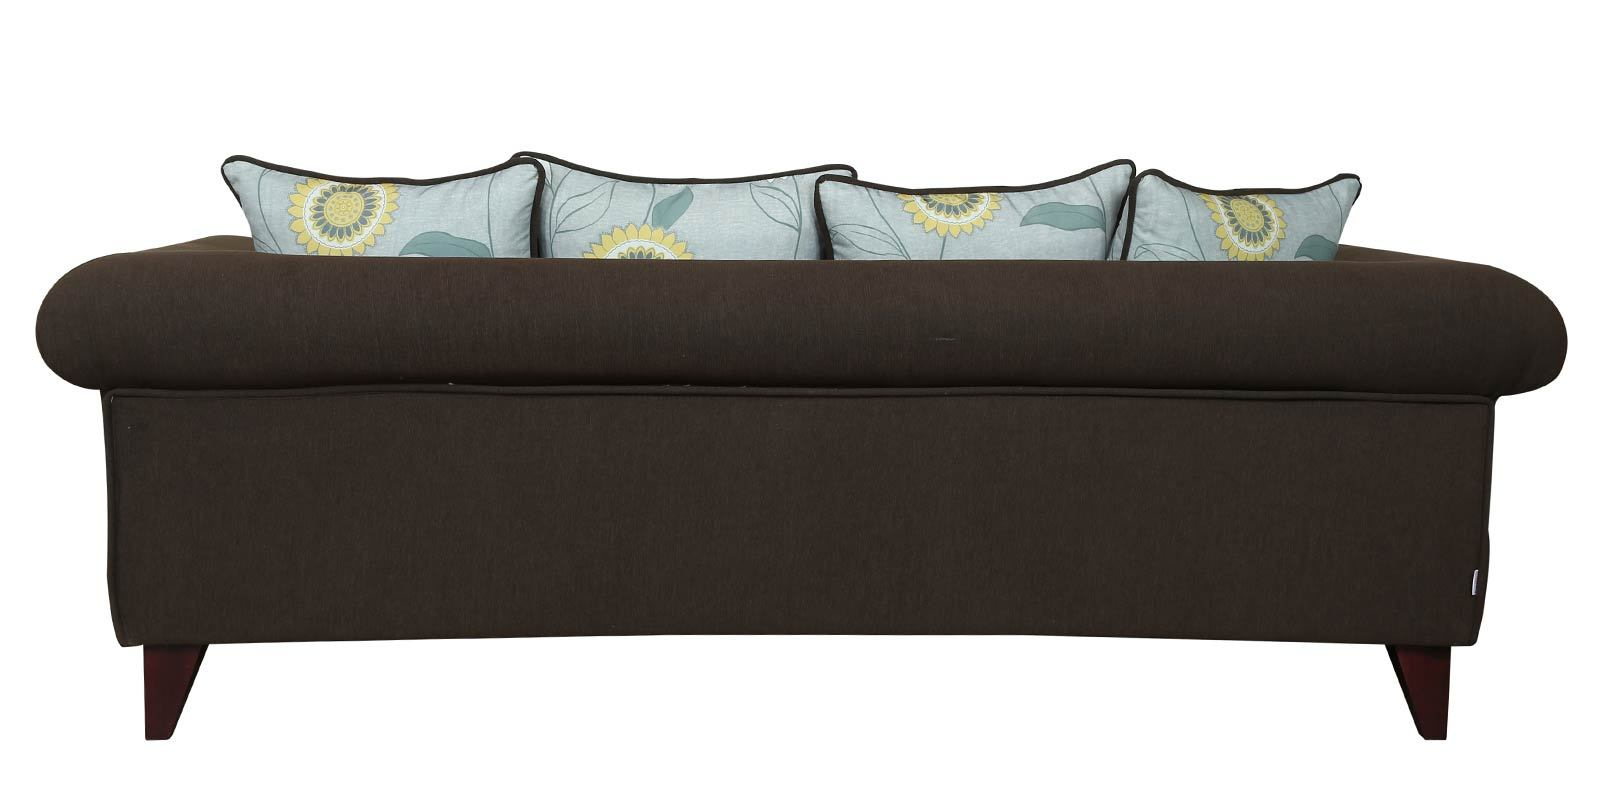Cielo Three Seater Sofa in Chestnut Brown Colour by CasaCraft: (17, 143, 1576, 719)
